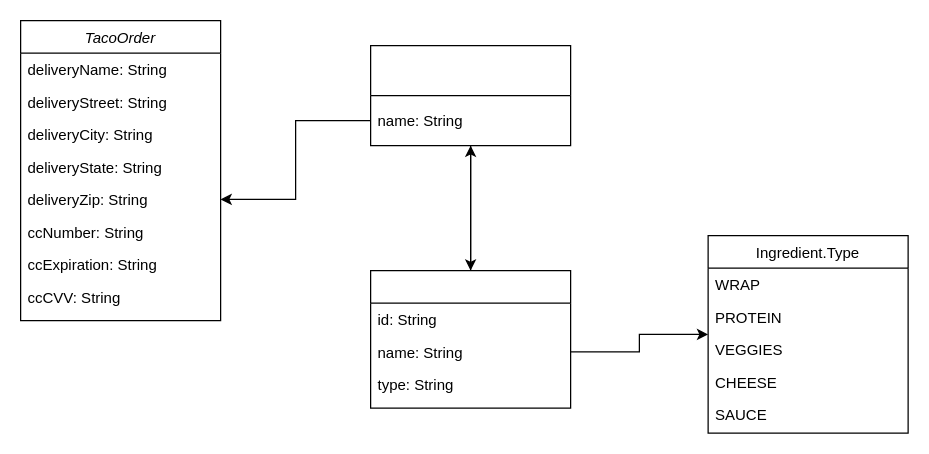
Some shapes in this 929 by 454 pixel diagram are drawn without their labels. Here are the shapes that lost their labels. From the top down, the box of each, then its label:
(369, 44, 571, 146): Taco
(369, 269, 571, 408): Ingredient
